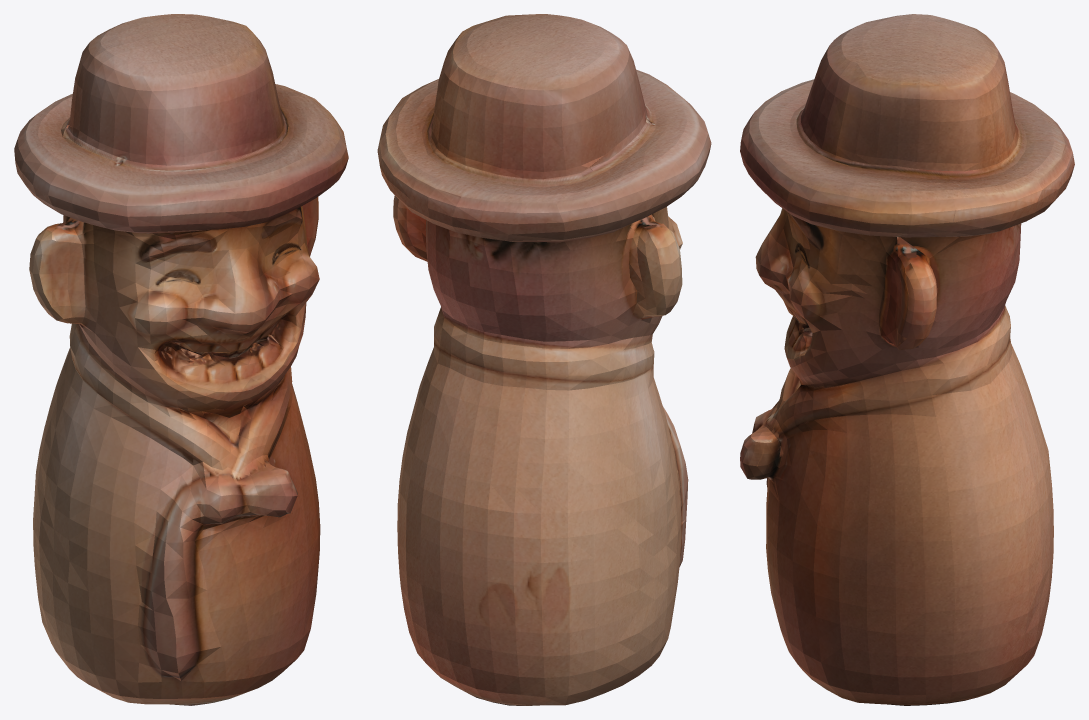
File: Jangseung_001.fbx
3 views of the same model, side by side, from view 1: azimuth 30°, elevation 25°; view 2: azimuth 150°, elevation 25°; view 3: azimuth 270°, elevation 25° (orthographic).
Parts seen in each view (by area): view 1: Jangseung.001; view 2: Jangseung.001; view 3: Jangseung.001.
Boxes of the visible parts, <box> form: Jangseung.001: <box>14,14,348,705</box>; Jangseung.001: <box>377,14,711,705</box>; Jangseung.001: <box>740,14,1074,705</box>.
Bounding box in the file's own units: 46.46 × 98 × 46.58.
